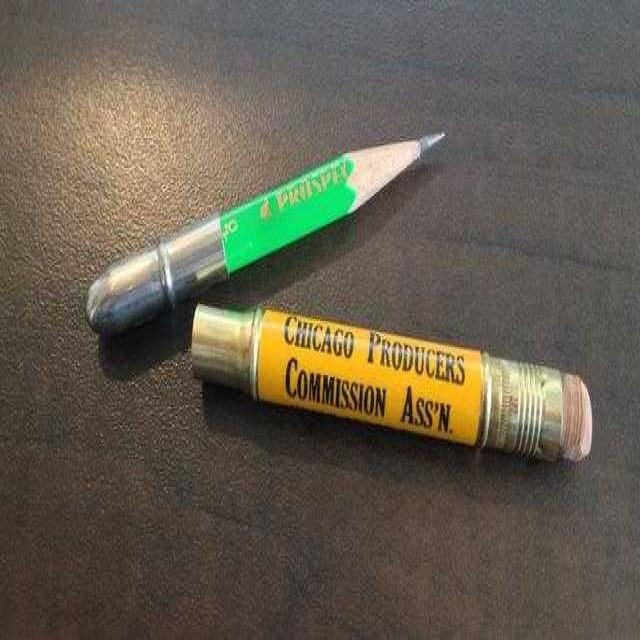pencil: (57, 112, 477, 367)
